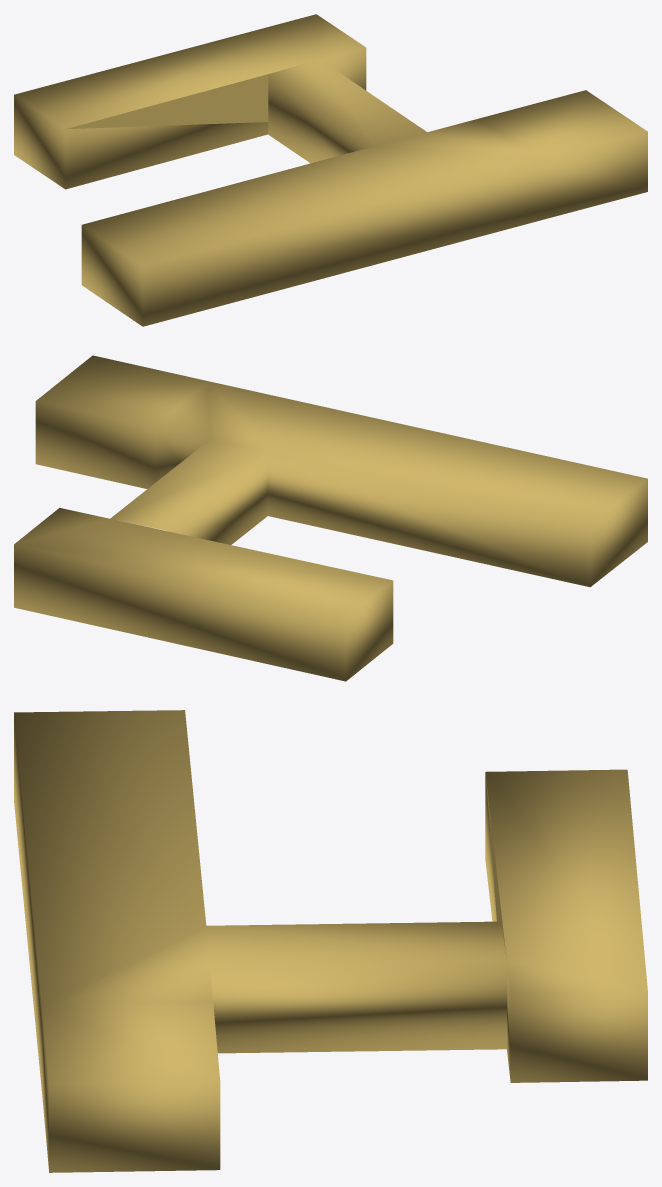
File: jinweilouWithTile.gltf
3 views of the same model, one above another, from view 1: azimuth 30°, elevation 25°; view 2: azimuth 150°, elevation 25°; view 3: azimuth 270°, elevation 25° (orthographic). The views are drawn at different scales.
Parts seen in each view (by area): view 1: default; view 2: default; view 3: default.
Part boxes in pixels (<box>): default: <box>14,14,647,326</box>; default: <box>14,355,647,681</box>; default: <box>14,710,647,1172</box>.
Size of the model in its own units: 81.3 by 9 by 58.25.
1 material, 1 textured.
